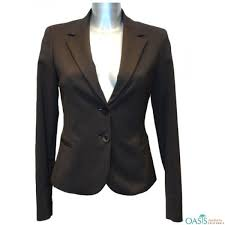F_W_suit jacket: (28, 5, 184, 225)
